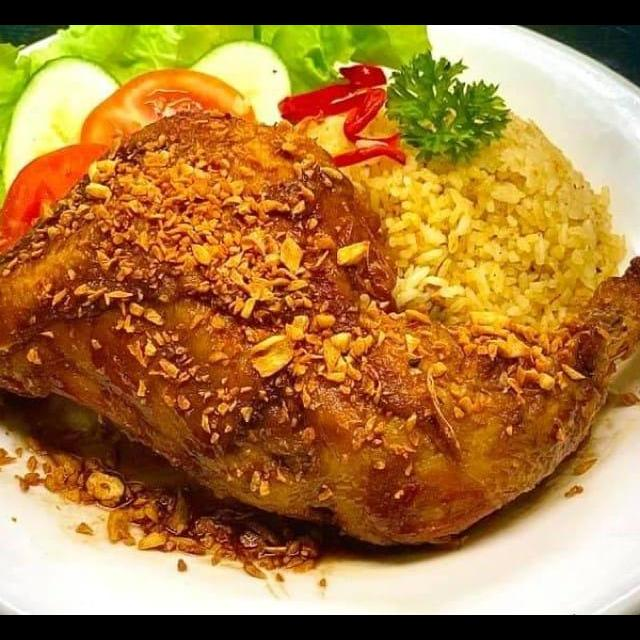com: (285, 80, 634, 349)
com ga: (0, 59, 640, 615)
thit ga: (0, 106, 640, 551)
